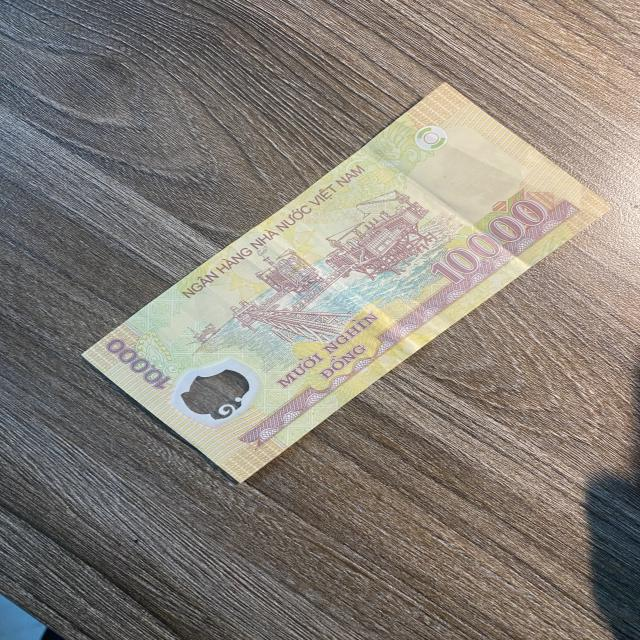10 000 VND: (80, 80, 615, 486)
